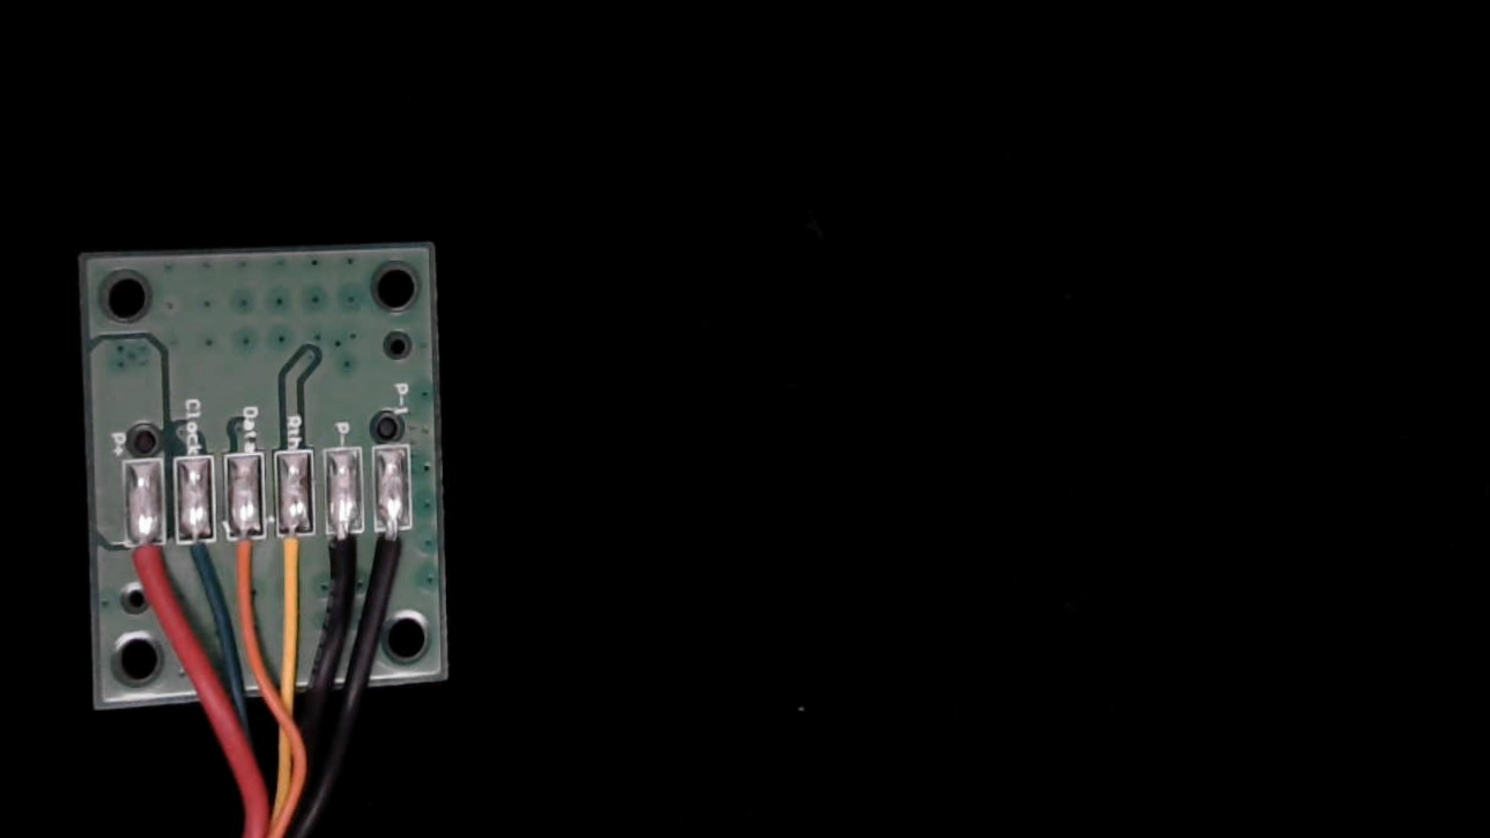Black: (323, 506, 361, 598)
Black1: (377, 504, 417, 594)
Green: (173, 515, 219, 605)
Orange: (225, 514, 266, 611)
Red: (122, 517, 166, 612)
Yellow: (271, 506, 315, 607)
